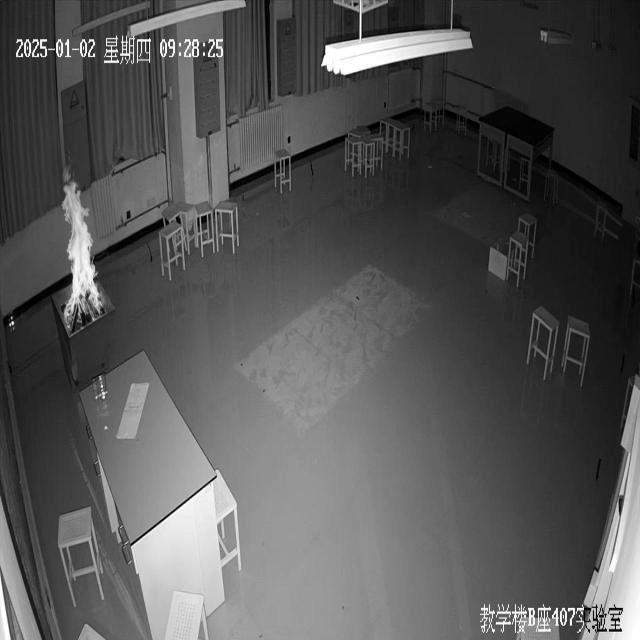smoke: (57, 152, 109, 330)
